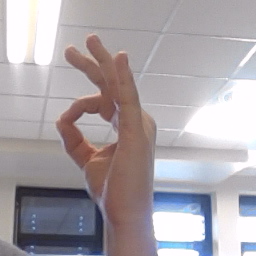O: (50, 32, 166, 213)
